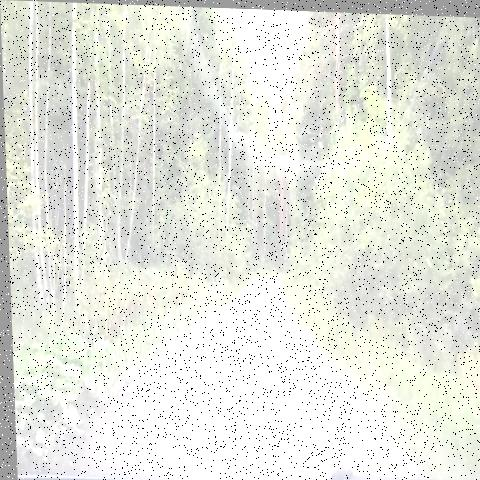pothole: (240, 397, 311, 444), (277, 373, 343, 414)
